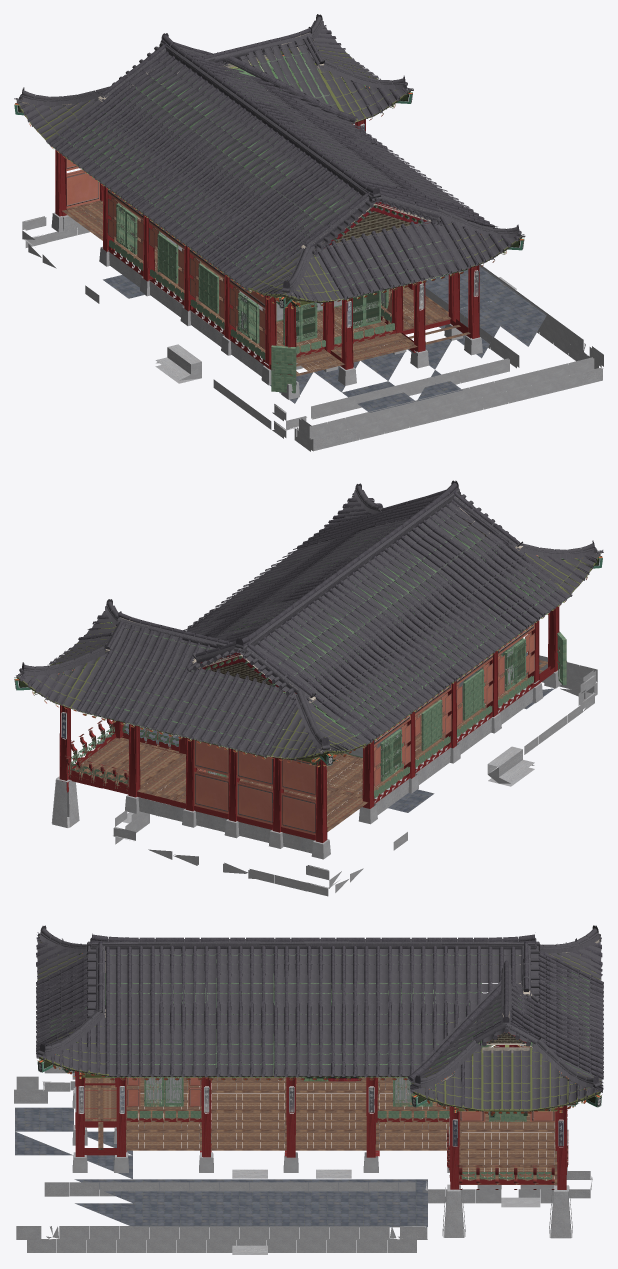
Rendered from yuyeo.glb.
3 views of the same model, one above another, from view 1: azimuth 30°, elevation 25°; view 2: azimuth 150°, elevation 25°; view 3: azimuth 270°, elevation 25° (orthographic). The views are drawn at different scales.
Parts seen in each view (by area): view 1: SM_Yuyeotaek, SM_Yuyeotaek_MI_R_Roof.001_0.004, SM_Yuyeotaek_MI_R_Roof.001_0.012, SM_Yuyeotaek_MI_R_Roof.001_0.006, SM_Yuyeotaek_MI_R_Roof.001_0.003, SM_Yuyeotaek_MI_R_Roof.001_0.008, SM_Yuyeotaek_MI_R_Roof.001_0.010, SM_Yuyeotaek_MI_R_Roof.001_0.007, SM_Yuyeotaek_MI_R_Roof.001_0.001, SM_Yuyeotaek_MI_R_Roof.001_0.013, SM_Yuyeotaek_MI_KoreanWood_5.001_0.001, SM_Yuyeotaek_MI_R_Roof.001_0.011 (+4 smaller); view 2: SM_Yuyeotaek, SM_Yuyeotaek_MI_R_Roof.001_0.004, SM_Yuyeotaek_MI_R_Roof.001_0.012, SM_Yuyeotaek_MI_R_Roof.001_0.003, SM_Yuyeotaek_MI_R_Roof.001_0.008, SM_Yuyeotaek_MI_R_Roof.001_0.005, SM_Yuyeotaek_MI_R_Roof.001_0.001, SM_Yuyeotaek_MI_R_Roof.001_0.013, SM_Yuyeotaek_MI_R_Roof.001_0.002, SM_Yuyeotaek_MI_R_Roof.001_0.007, SM_Yuyeotaek_MI_R_Roof.001_0.009, SM_Yuyeotaek_MI_KoreanWood_5.001_0.001 (+4 smaller); view 3: SM_Yuyeotaek, SM_Yuyeotaek_MI_R_Roof.001_0.011, SM_Yuyeotaek_MI_R_Roof.001_0.007, SM_Yuyeotaek_MI_R_Roof.001_0.009, SM_Yuyeotaek_MI_R_Roof.001_0.008, SM_Yuyeotaek_MI_R_Roof.001_0.013, SM_Yuyeotaek_MI_R_Roof.001_0.012, SM_Yuyeotaek_MI_R_Roof.001_0.005, SM_Yuyeotaek_MI_R_Roof.001_0.001, SM_Yuyeotaek_MI_R_Roof.001_0.002, SM_Yuyeotaek_MI_R_Roof.001_0.010, SM_Yuyeotaek_MI_R_Roof.001_0.006 (+4 smaller).
Part boxes in pixels (left/top/right/bottom): SM_Yuyeotaek: left=14, top=25, right=603, bottom=451; SM_Yuyeotaek_MI_R_Roof.001_0.004: left=18, top=33, right=363, bottom=290; SM_Yuyeotaek_MI_R_Roof.001_0.012: left=58, top=59, right=469, bottom=221; SM_Yuyeotaek_MI_R_Roof.001_0.006: left=46, top=51, right=467, bottom=301; SM_Yuyeotaek_MI_R_Roof.001_0.003: left=22, top=27, right=324, bottom=211; SM_Yuyeotaek_MI_R_Roof.001_0.008: left=14, top=98, right=414, bottom=250; SM_Yuyeotaek_MI_R_Roof.001_0.010: left=198, top=54, right=525, bottom=292; SM_Yuyeotaek_MI_R_Roof.001_0.007: left=98, top=42, right=467, bottom=279; SM_Yuyeotaek_MI_R_Roof.001_0.001: left=204, top=14, right=516, bottom=237; SM_Yuyeotaek_MI_R_Roof.001_0.013: left=139, top=54, right=360, bottom=230; SM_Yuyeotaek_MI_KoreanWood_5.001_0.001: left=109, top=203, right=391, bottom=345; SM_Yuyeotaek_MI_R_Roof.001_0.011: left=186, top=52, right=410, bottom=148; SM_Yuyeotaek: left=14, top=507, right=602, bottom=896; SM_Yuyeotaek_MI_R_Roof.001_0.004: left=191, top=497, right=572, bottom=749; SM_Yuyeotaek_MI_R_Roof.001_0.012: left=261, top=516, right=476, bottom=736; SM_Yuyeotaek_MI_R_Roof.001_0.003: left=105, top=580, right=462, bottom=756; SM_Yuyeotaek_MI_R_Roof.001_0.008: left=215, top=540, right=517, bottom=758; SM_Yuyeotaek_MI_R_Roof.001_0.005: left=47, top=540, right=603, bottom=757; SM_Yuyeotaek_MI_R_Roof.001_0.001: left=14, top=493, right=423, bottom=733; SM_Yuyeotaek_MI_R_Roof.001_0.013: left=176, top=598, right=489, bottom=744; SM_Yuyeotaek_MI_R_Roof.001_0.002: left=172, top=480, right=524, bottom=755; SM_Yuyeotaek_MI_R_Roof.001_0.007: left=187, top=491, right=459, bottom=707; SM_Yuyeotaek_MI_R_Roof.001_0.009: left=182, top=498, right=435, bottom=759; SM_Yuyeotaek_MI_KoreanWood_5.001_0.001: left=207, top=639, right=522, bottom=798; SM_Yuyeotaek: left=14, top=925, right=603, bottom=1254; SM_Yuyeotaek_MI_R_Roof.001_0.011: left=331, top=946, right=523, bottom=1109; SM_Yuyeotaek_MI_R_Roof.001_0.007: left=36, top=941, right=540, bottom=1077; SM_Yuyeotaek_MI_R_Roof.001_0.009: left=36, top=937, right=602, bottom=1077; SM_Yuyeotaek_MI_R_Roof.001_0.008: left=273, top=937, right=602, bottom=1077; SM_Yuyeotaek_MI_R_Roof.001_0.013: left=388, top=937, right=603, bottom=1077; SM_Yuyeotaek_MI_R_Roof.001_0.012: left=159, top=946, right=489, bottom=1077; SM_Yuyeotaek_MI_R_Roof.001_0.005: left=36, top=932, right=603, bottom=1109; SM_Yuyeotaek_MI_R_Roof.001_0.001: left=45, top=937, right=603, bottom=1107; SM_Yuyeotaek_MI_R_Roof.001_0.002: left=37, top=933, right=603, bottom=1056; SM_Yuyeotaek_MI_R_Roof.001_0.010: left=36, top=955, right=511, bottom=1108; SM_Yuyeotaek_MI_R_Roof.001_0.006: left=36, top=937, right=501, bottom=1087.
Size of the model in its own units: 15.11 by 8.87 by 21.29.
Materials: 28 (27 with a texture image).
